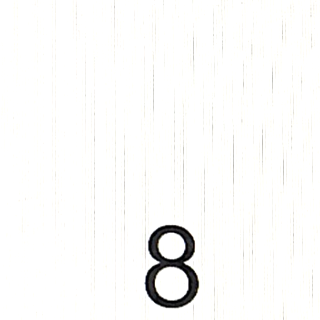eight: (142, 222, 203, 312)
